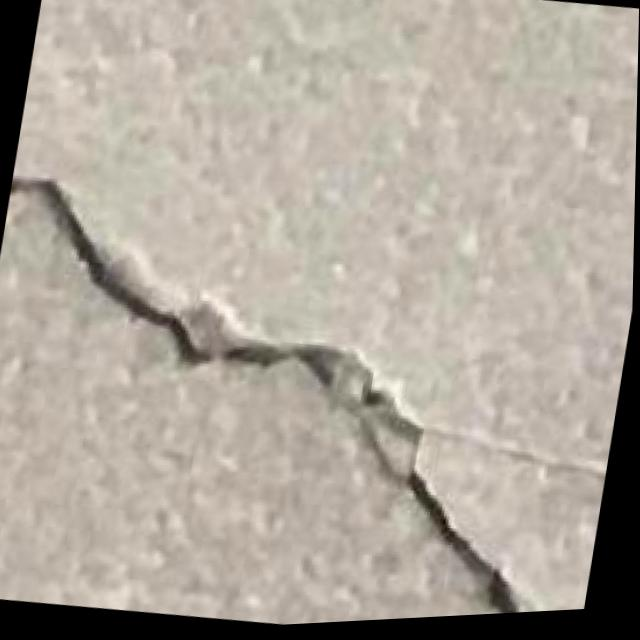Crack: (0, 128, 631, 640)
